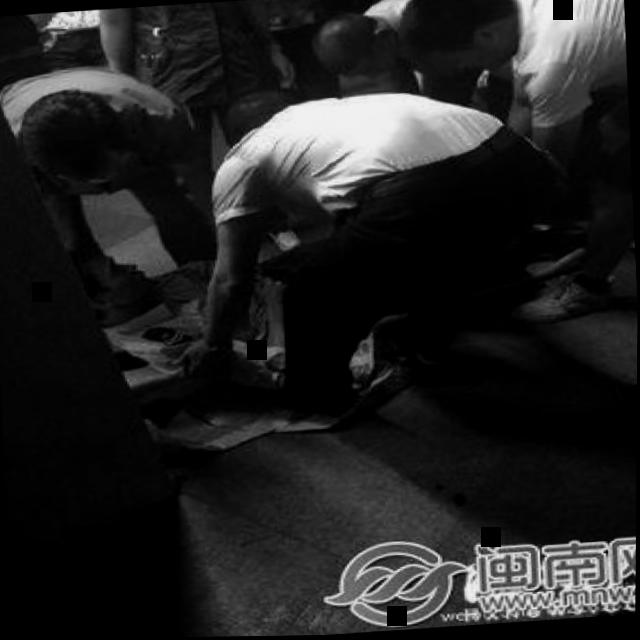Fall-Detected: (62, 205, 314, 418)
